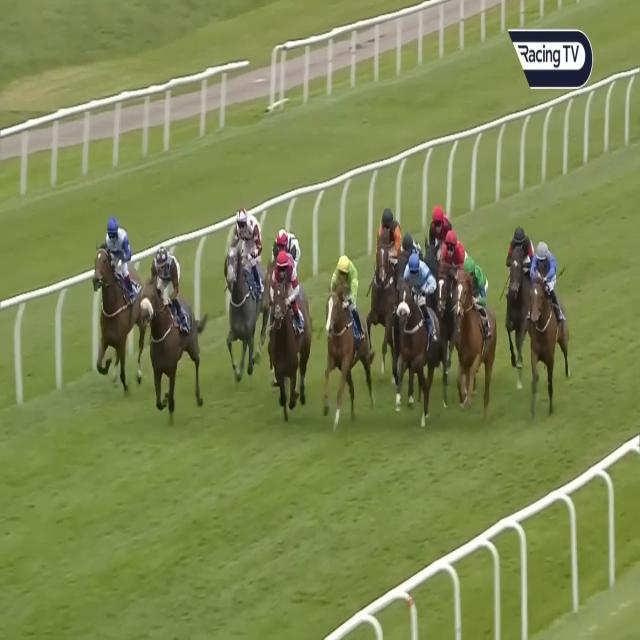horses-racing: (145, 244, 199, 412), (264, 249, 310, 417), (98, 220, 145, 381), (223, 199, 262, 374), (455, 256, 495, 414), (399, 255, 438, 413), (327, 255, 364, 418), (529, 245, 567, 381), (504, 226, 532, 364), (372, 199, 402, 323), (441, 228, 477, 271), (271, 218, 299, 268), (428, 206, 451, 244), (397, 225, 419, 264)
